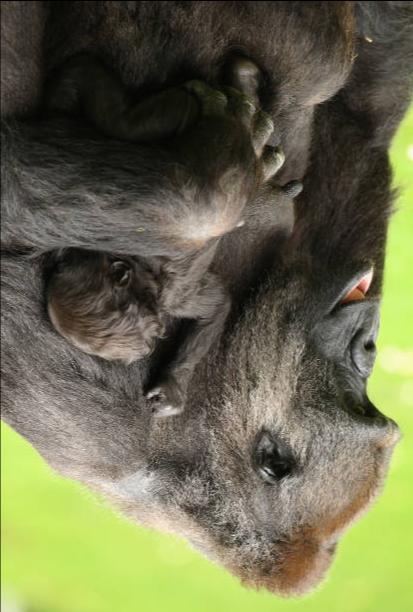gorille_Autres: (0, 0, 395, 603)
